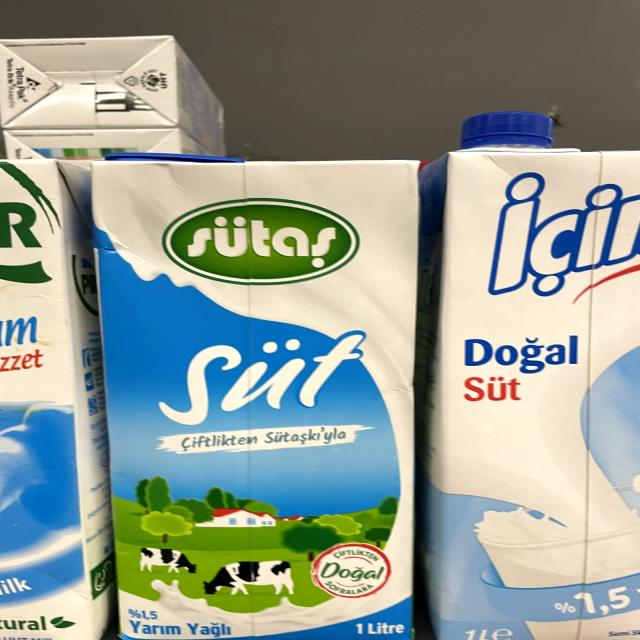milk: (83, 147, 424, 640), (420, 116, 640, 640)
